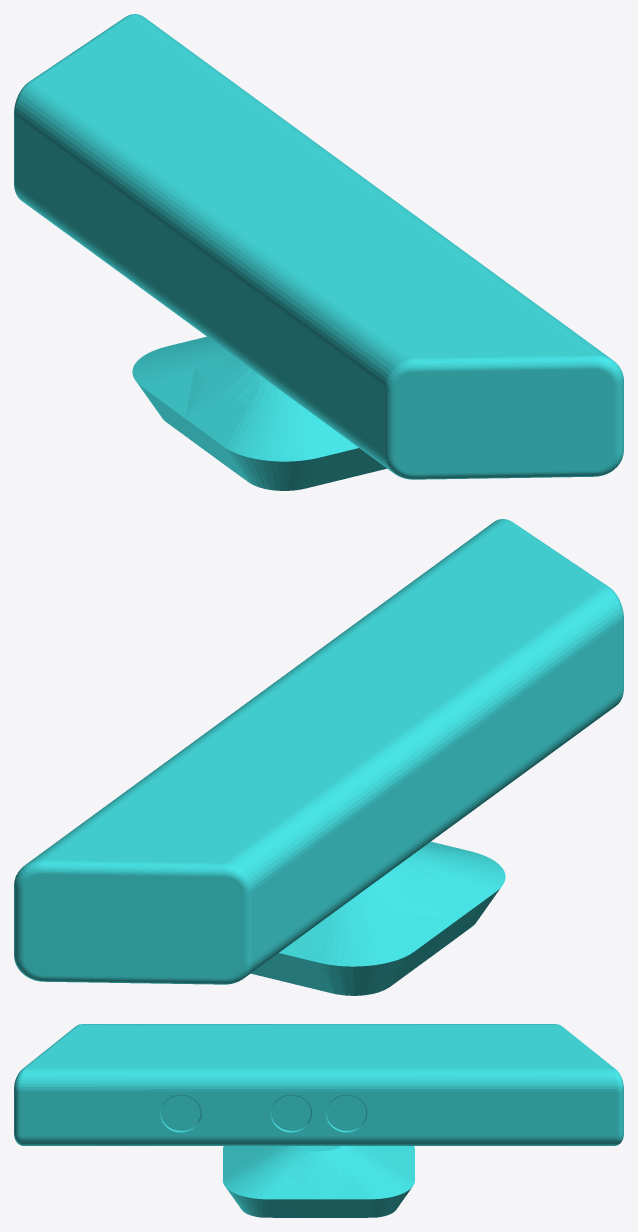
File: kinect.dae
3 views of the same model, one above another, from view 1: azimuth 30°, elevation 25°; view 2: azimuth 150°, elevation 25°; view 3: azimuth 270°, elevation 25° (orthographic). The views are drawn at different scales.
Parts seen in each view (by area): view 1: mesh_Material_-_23; view 2: mesh_Material_-_23; view 3: mesh_Material_-_23.
Part boxes in pixels (x1,y1,x2,y2): mesh_Material_-_23: (14,14,623,490); mesh_Material_-_23: (14,519,623,995); mesh_Material_-_23: (14,1024,623,1217).
Size of the model in its own units: 0.073 by 0.276 by 0.072.
